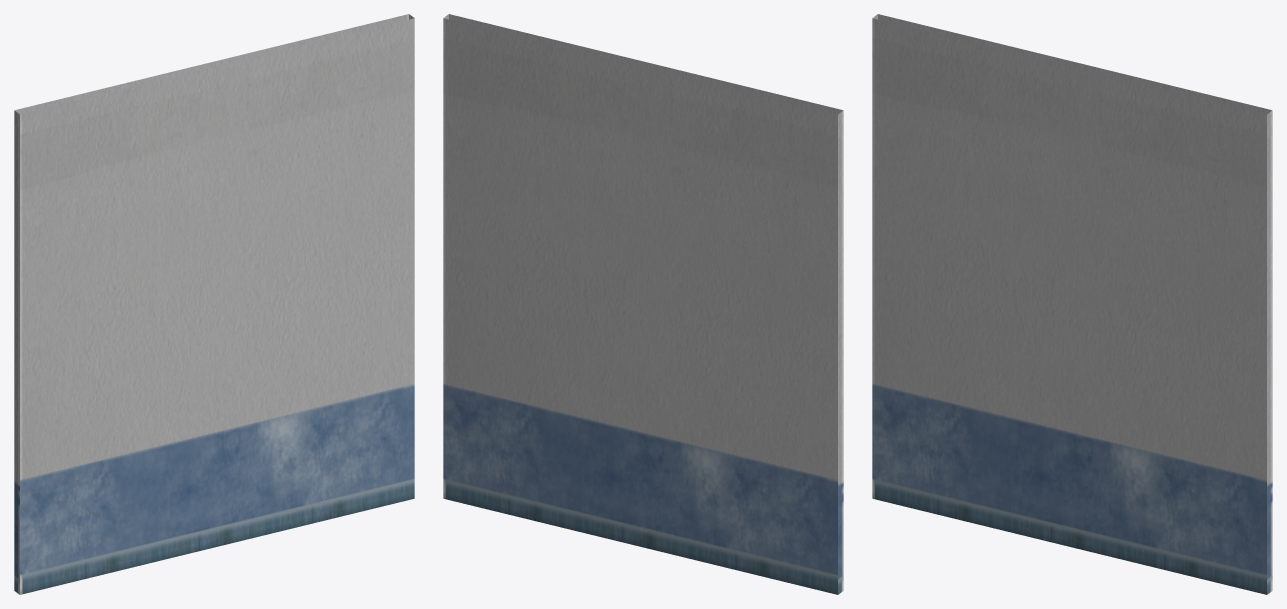
The model's file is Wall_tall_4m.FBX.
3 renders of one model, left to right at view 1: azimuth 30°, elevation 25°; view 2: azimuth 150°, elevation 25°; view 3: azimuth 330°, elevation 25°, orthographic.
Visible parts, largest first — view 1: Wall_tall_4m; view 2: Wall_tall_4m; view 3: Wall_tall_4m.
Boxes of the visible parts, box(x1,y1,x2,y2) form: Wall_tall_4m: box(14, 14, 414, 594); Wall_tall_4m: box(443, 14, 843, 594); Wall_tall_4m: box(872, 14, 1272, 594).
Size of the model in its own units: 262 by 305 by 6.56.
